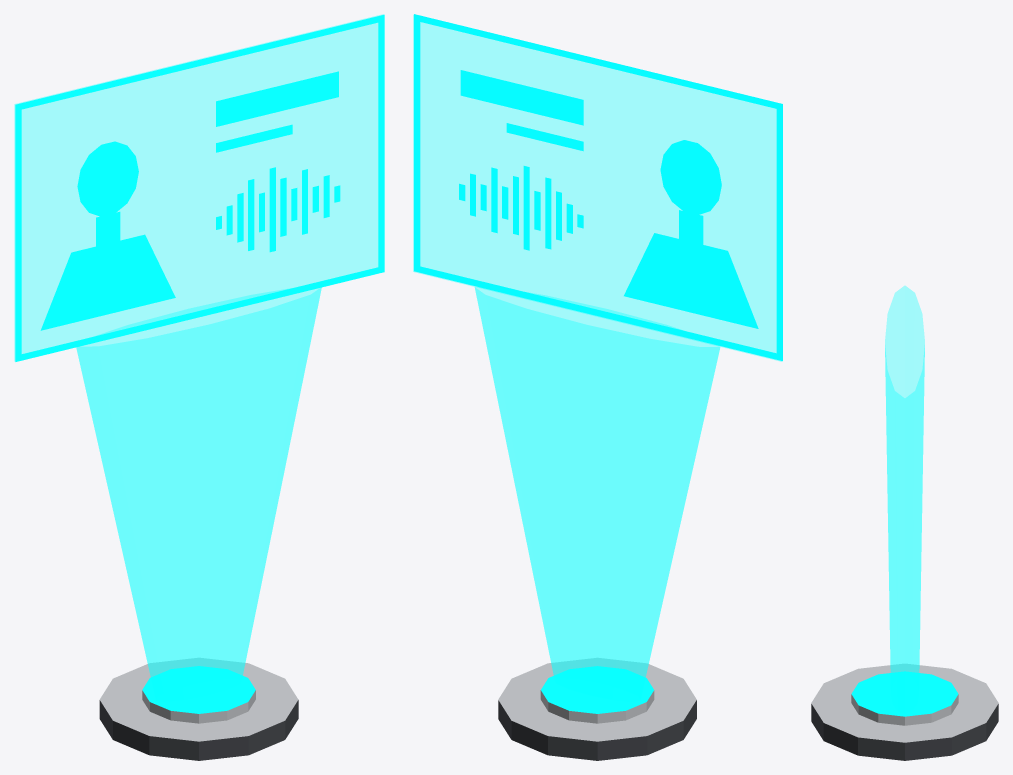
Rendered from FV_ARIA_HoloDisplay.fbx.
The picture shows the model from 3 angles, left to right: view 1: azimuth 30°, elevation 25°; view 2: azimuth 150°, elevation 25°; view 3: azimuth 270°, elevation 25°; orthographic projection. The views are drawn at different scales.
Parts seen in each view (by area): view 1: ARIA_HoloDisplay; view 2: ARIA_HoloDisplay; view 3: ARIA_HoloDisplay.
Boxes of the visible parts, <box> form: ARIA_HoloDisplay: <box>14,14,384,760</box>; ARIA_HoloDisplay: <box>413,14,782,760</box>; ARIA_HoloDisplay: <box>811,286,998,760</box>.
Size of the model in its own units: 1.2 by 2.05 by 0.56.
